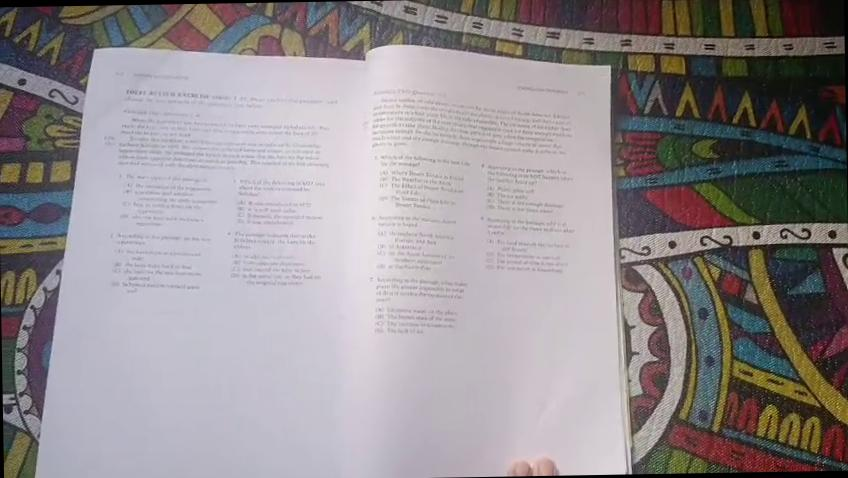Kertas: (92, 58, 431, 478), (361, 71, 624, 463)
